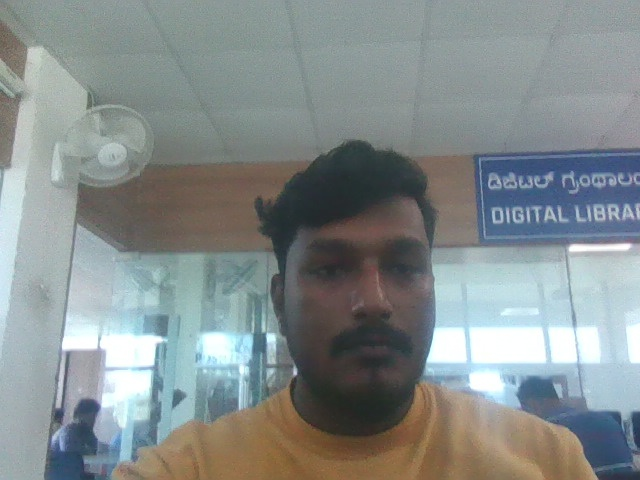real: (255, 127, 462, 421)
